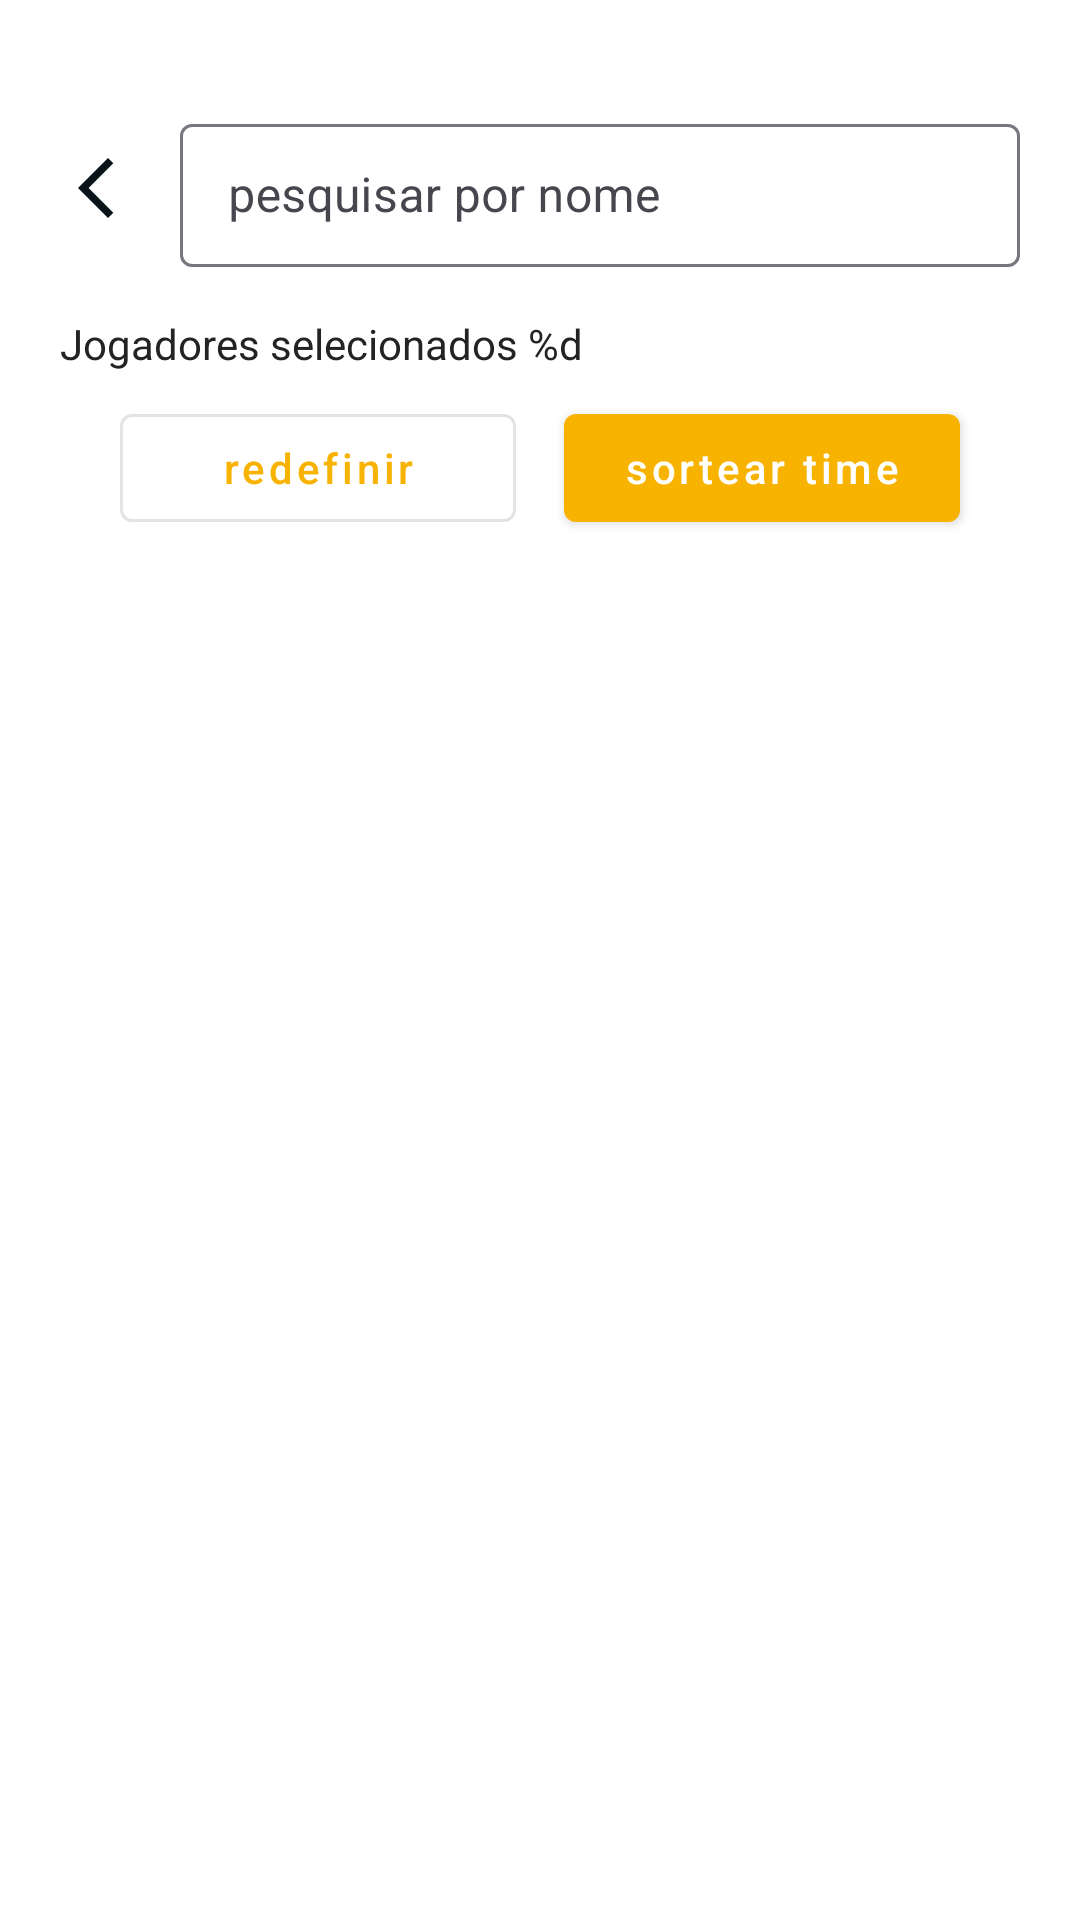

Icon bounding boxes for this 1080px x 1920px phone screenshot, format (x1, y1, x2, y2):
voltar: (78, 158, 113, 218)
